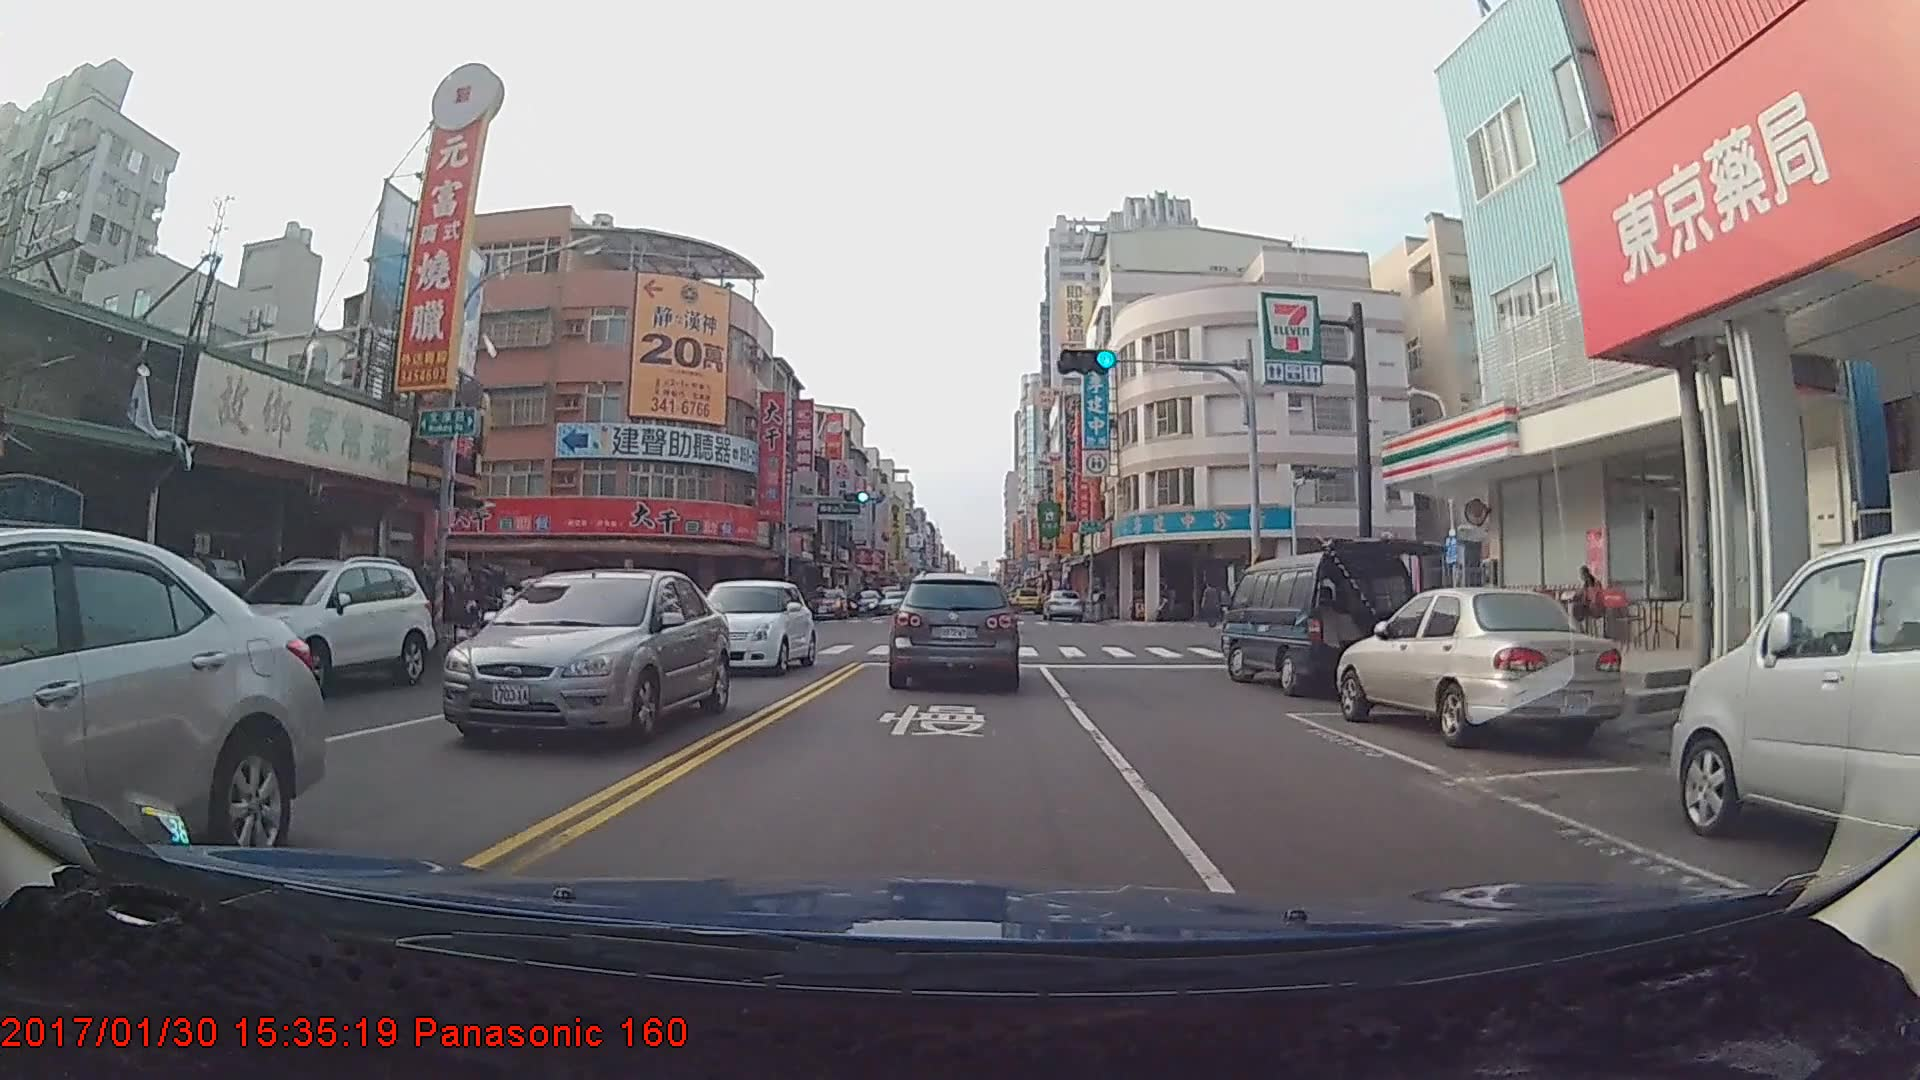pedestrian: (1203, 584, 1223, 632)
vehicle: (0, 532, 320, 939), (1666, 534, 1920, 854), (439, 566, 730, 746), (1338, 582, 1616, 747), (211, 550, 435, 698), (1220, 553, 1420, 697), (887, 569, 1021, 690), (685, 578, 814, 676), (1042, 587, 1083, 623), (808, 585, 848, 620), (847, 591, 883, 616), (1012, 587, 1041, 612)
